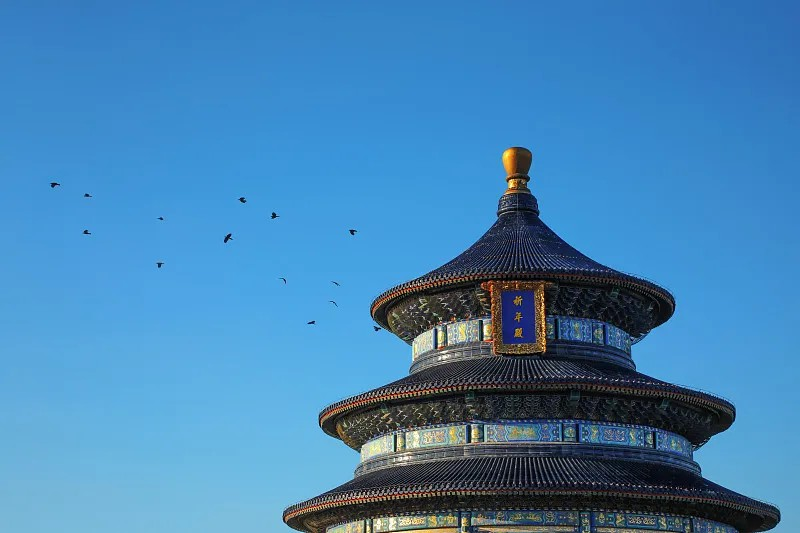Heaven: (281, 146, 783, 533)
